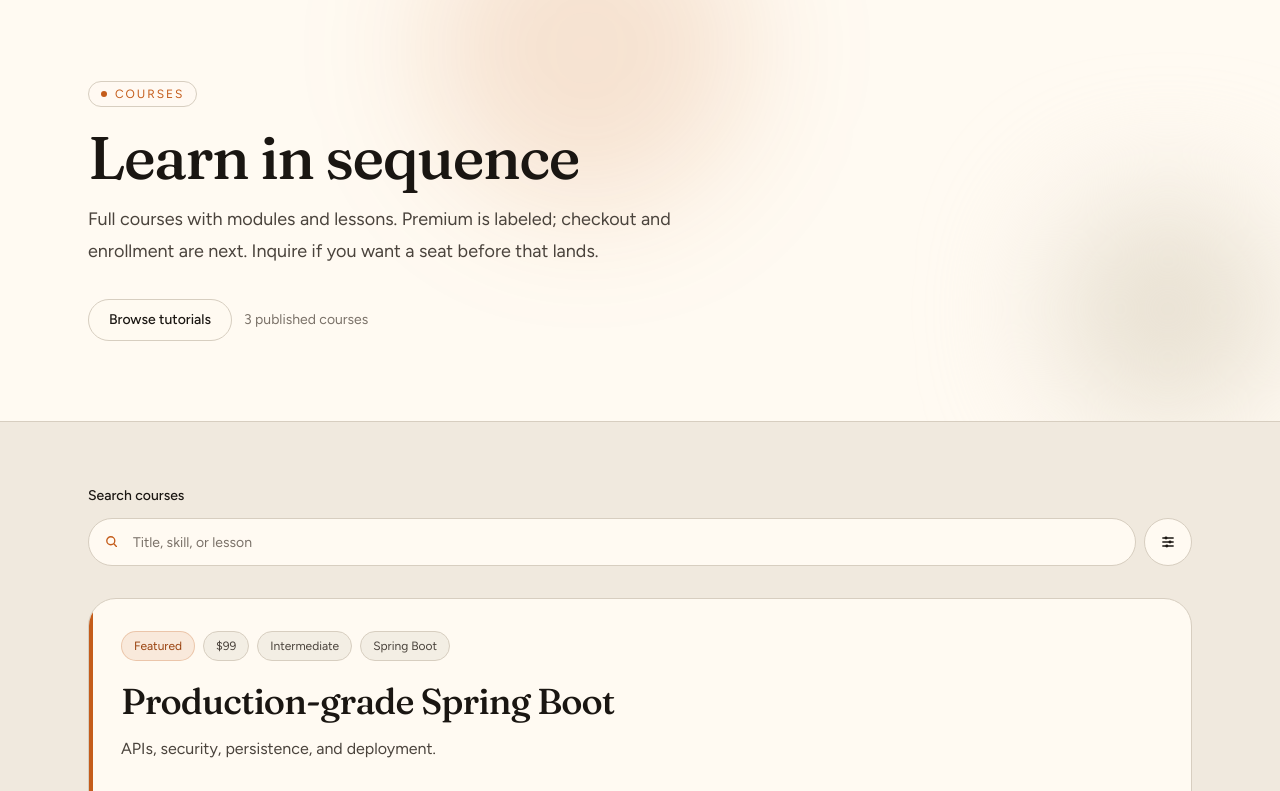
Test: CoursesPage › renders published courses and hides drafts
The width and height of the screenshot is (1280, 791).
Check: the heading "Learn in sequence" is shown, box 88,120 -> 579,194
Check: the heading "Production-grade Spring Boot" is shown, box 121,679 -> 614,723
Click the button named "Filters" at (1168, 542), box 1144,518 -> 1192,566
(page scrolled)
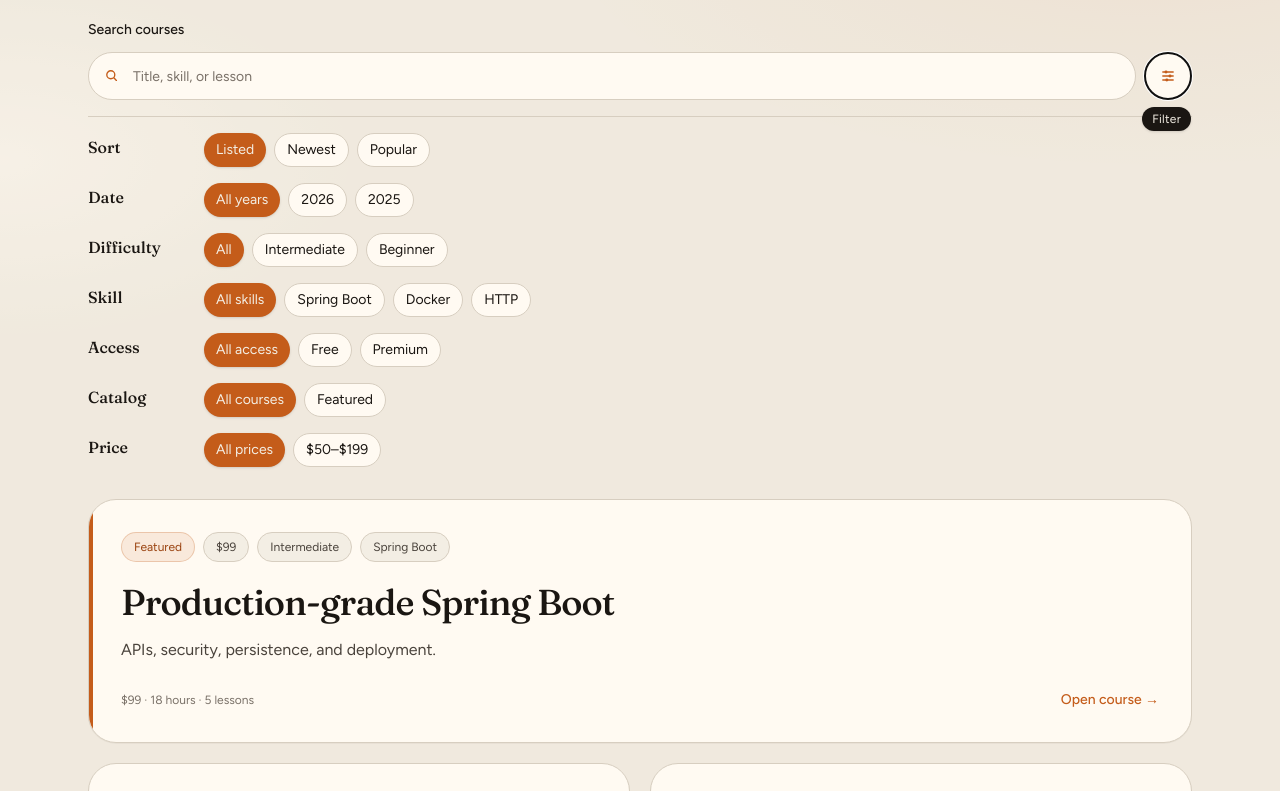
Check: the button "Beginner" is shown, box 366,233 -> 448,267
Check: the button "Intermediate" is shown, box 252,233 -> 358,267
Check: the button "Featured" is shown, box 304,383 -> 386,417
